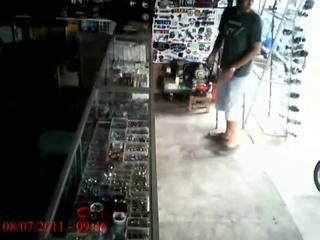Normal: (205, 0, 263, 150)
